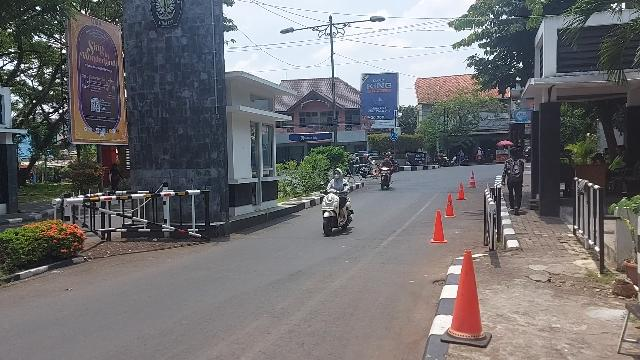motor: (320, 183, 356, 237), (378, 165, 396, 192)
non-helm: (335, 169, 343, 180), (386, 156, 391, 162)
